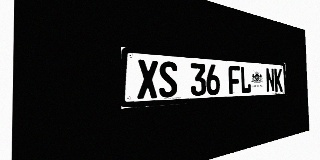3: (190, 63, 206, 96)
6: (206, 64, 220, 95)
F: (228, 65, 240, 94)
K: (274, 68, 283, 92)
L: (240, 66, 251, 94)
N: (266, 68, 275, 92)
S: (159, 61, 178, 98)
X: (137, 59, 158, 99)
